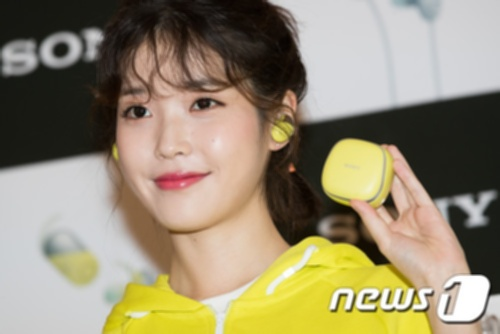earphone: (263, 89, 297, 150)
